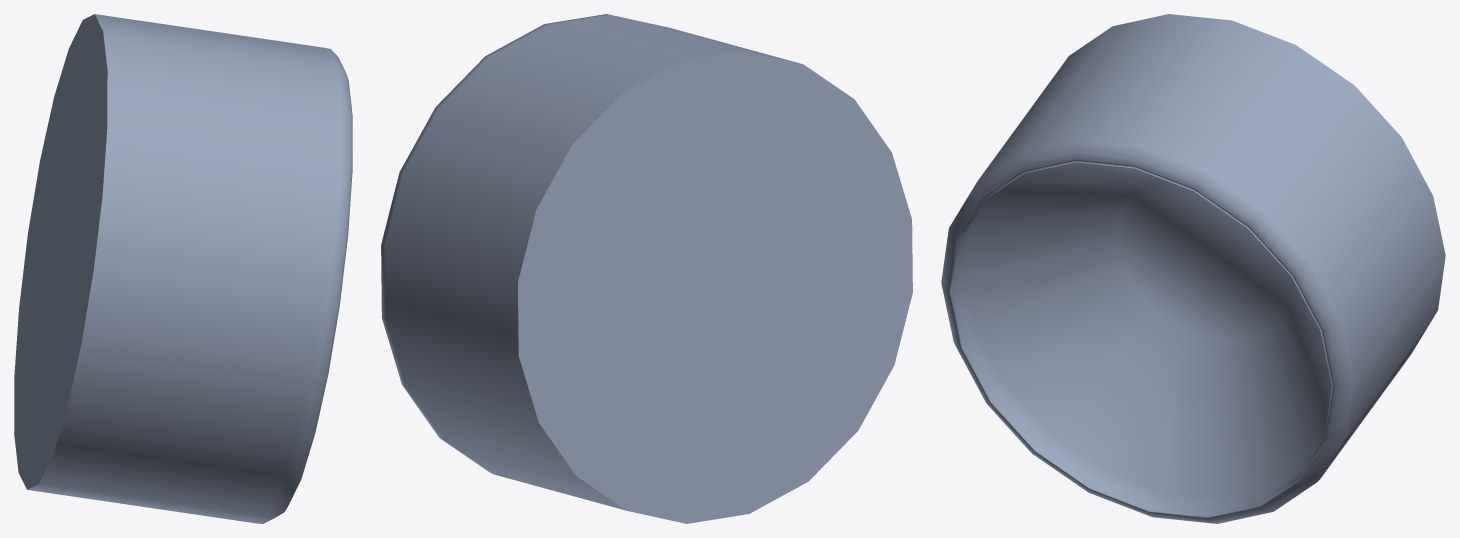
The model's file is TR4_8shapes_Round_Classic_Metal.001 2.glb.
3 renders of one model, left to right at view 1: azimuth 30°, elevation 25°; view 2: azimuth 150°, elevation 25°; view 3: azimuth 270°, elevation 25°, orthographic. The views are drawn at different scales.
Visible parts, largest first — view 1: TR4_8shapes_Round_Classic_Metal.001; view 2: TR4_8shapes_Round_Classic_Metal.001; view 3: TR4_8shapes_Round_Classic_Metal.001.
Part boxes in pixels (x1,y1,x2,y2): TR4_8shapes_Round_Classic_Metal.001: (14, 14, 352, 523); TR4_8shapes_Round_Classic_Metal.001: (381, 14, 912, 523); TR4_8shapes_Round_Classic_Metal.001: (941, 14, 1445, 523).
Size of the model in its own units: 0.4798 by 0.5672 by 0.5814.
